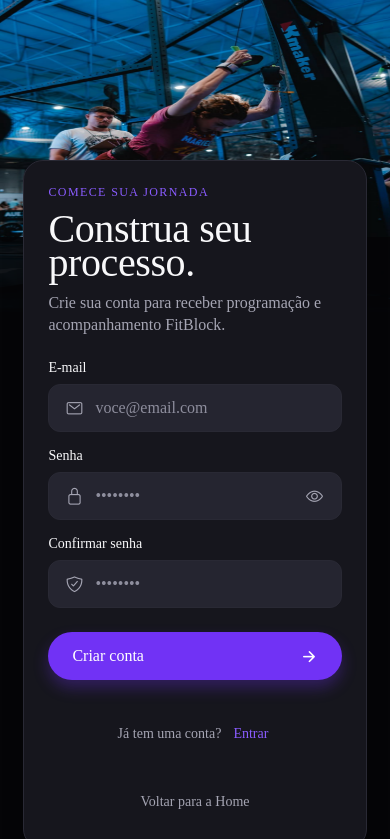
Test: AuthScreen › sign-up flow (criar conta de atleta) › rejects signup when email is empty
In the password field with test id "auth-password": {"x": 188, "y": 496} [83,473,293,519], type "StrongPass123!"
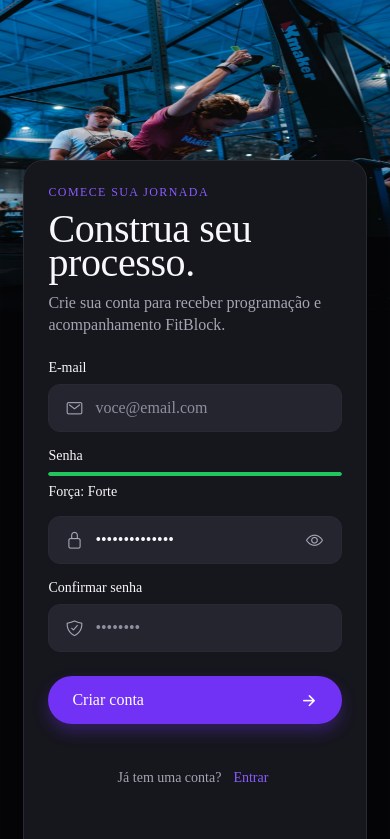
In the password field with test id "auth-confirm-password": {"x": 204, "y": 628} [83,605,325,651], type "StrongPass123!"
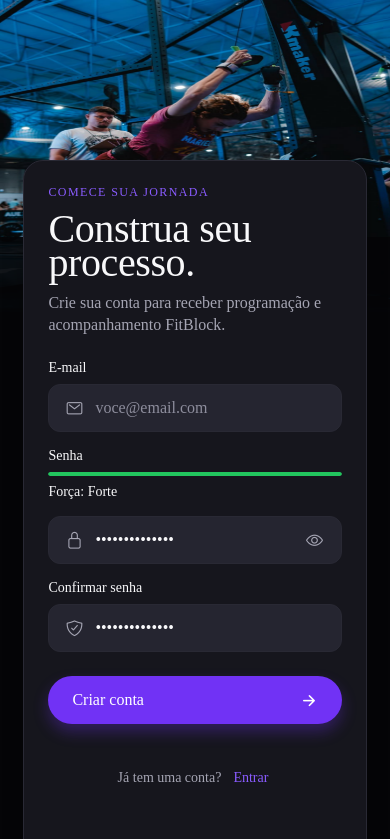
Click the button with test id "auth-submit": {"x": 108, "y": 700} [48,676,342,724]
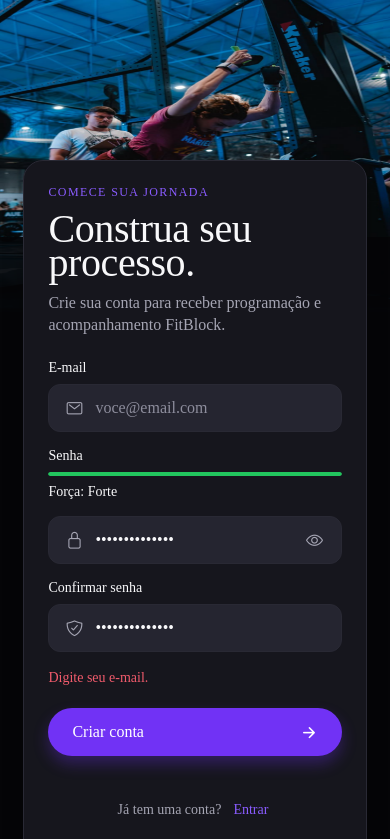
Now the text "Digite seu e-mail." is shown, box [48,670,148,685]
